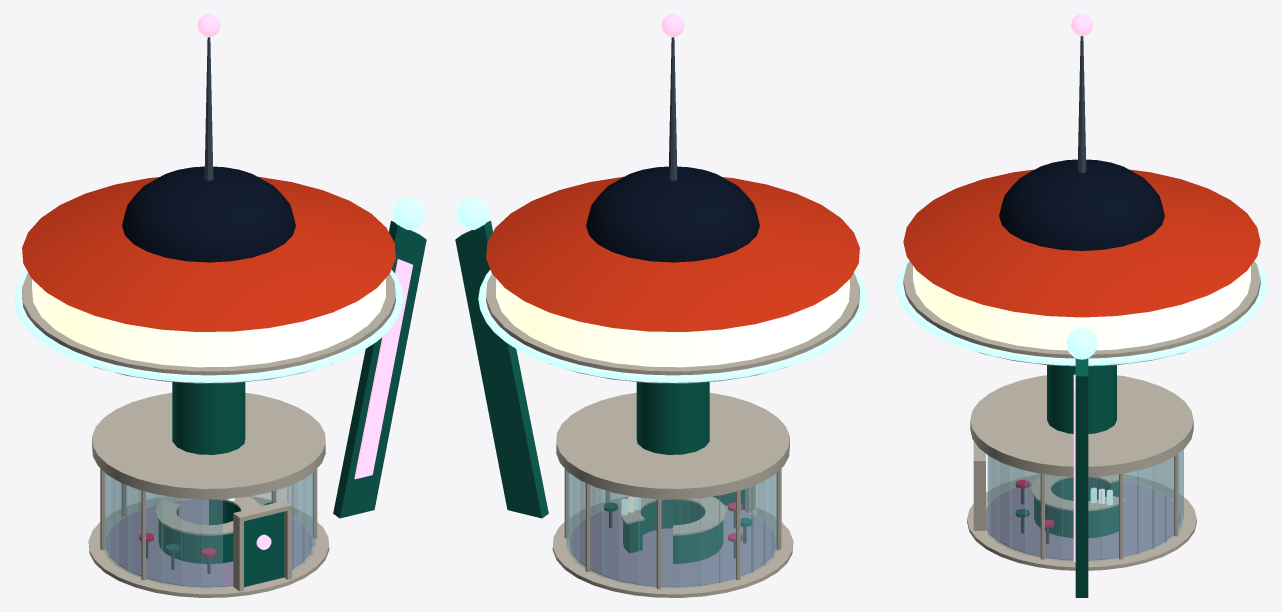
File: saucer_diner.glb
The picture shows the model from 3 angles, left to right: view 1: azimuth 30°, elevation 25°; view 2: azimuth 150°, elevation 25°; view 3: azimuth 270°, elevation 25°; orthographic projection. The views are drawn at different scales.
Parts seen in each view (by area): view 1: saucer_diner, door_shop_leaf; view 2: saucer_diner; view 3: saucer_diner.
Part boxes in pixels (box(x1,y1,x2,y2)): saucer_diner: box(14, 14, 426, 597); door_shop_leaf: box(244, 511, 284, 586); saucer_diner: box(455, 14, 867, 597); saucer_diner: box(896, 14, 1267, 597).
Bounding box in the file's own units: 13.22 × 17.55 × 11.64.
